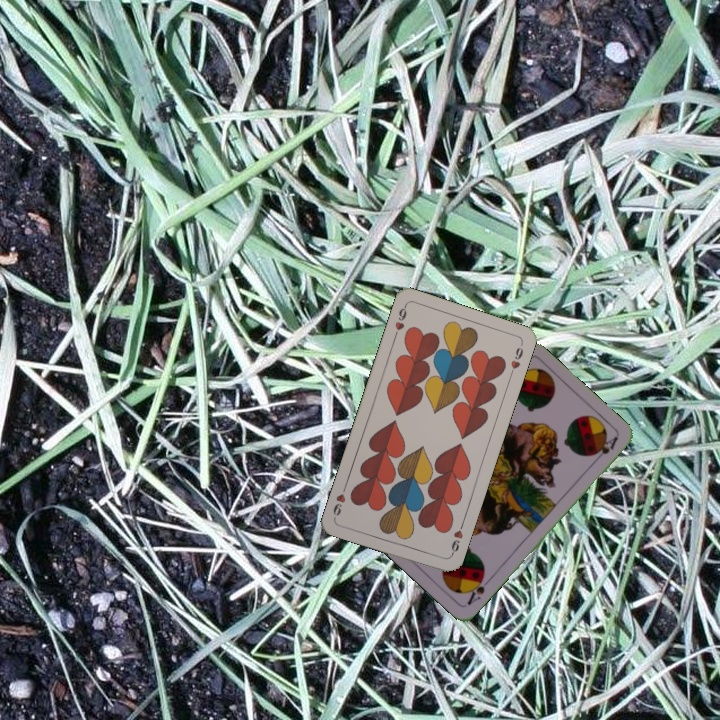H9: (390, 301, 409, 341), (447, 519, 466, 559)
SA: (463, 571, 494, 608)
